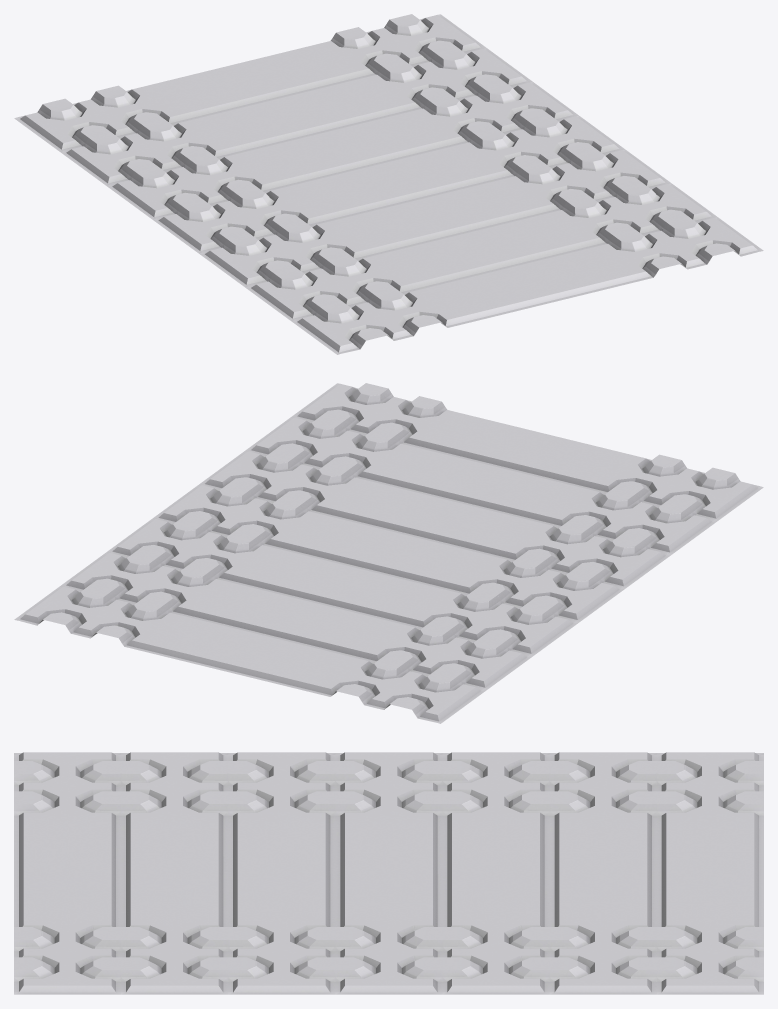
File: Enter a title.obj
3 renders of one model, top to bottom at view 1: azimuth 30°, elevation 25°; view 2: azimuth 150°, elevation 25°; view 3: azimuth 270°, elevation 25°, orthographic. The views are drawn at different scales.
Visible parts, largest first — view 1: Object001; view 2: Object001; view 3: Object001.
Part boxes in pixels (left/top/right/bottom): Object001: left=14, top=14, right=763, bottom=354; Object001: left=14, top=383, right=763, bottom=723; Object001: left=14, top=752, right=763, bottom=994.
Size of the model in its own units: 160 by 2.7 by 210.
Materials: 1 (1 with a texture image).
